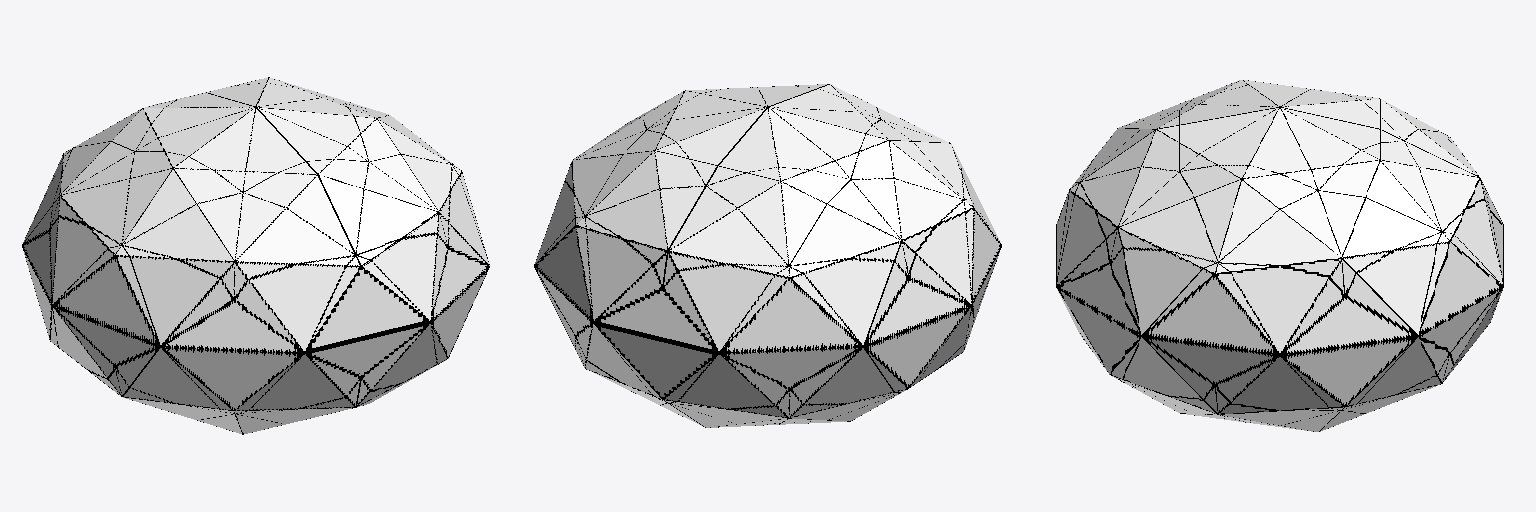
The picture shows the model from 3 angles: view 1: azimuth 30°, elevation 25°; view 2: azimuth 150°, elevation 25°; view 3: azimuth 270°, elevation 25°; orthographic projection.
Visible parts, largest first — view 1: shield; view 2: shield; view 3: shield.
Part boxes in pixels (bbox=[...]): shield: bbox=[22, 77, 489, 434]; shield: bbox=[534, 84, 1001, 427]; shield: bbox=[1056, 80, 1503, 431].
Bounding box in the file's own units: 2.93 × 2.05 × 2.79.
Materials: 1 (1 with a texture image).